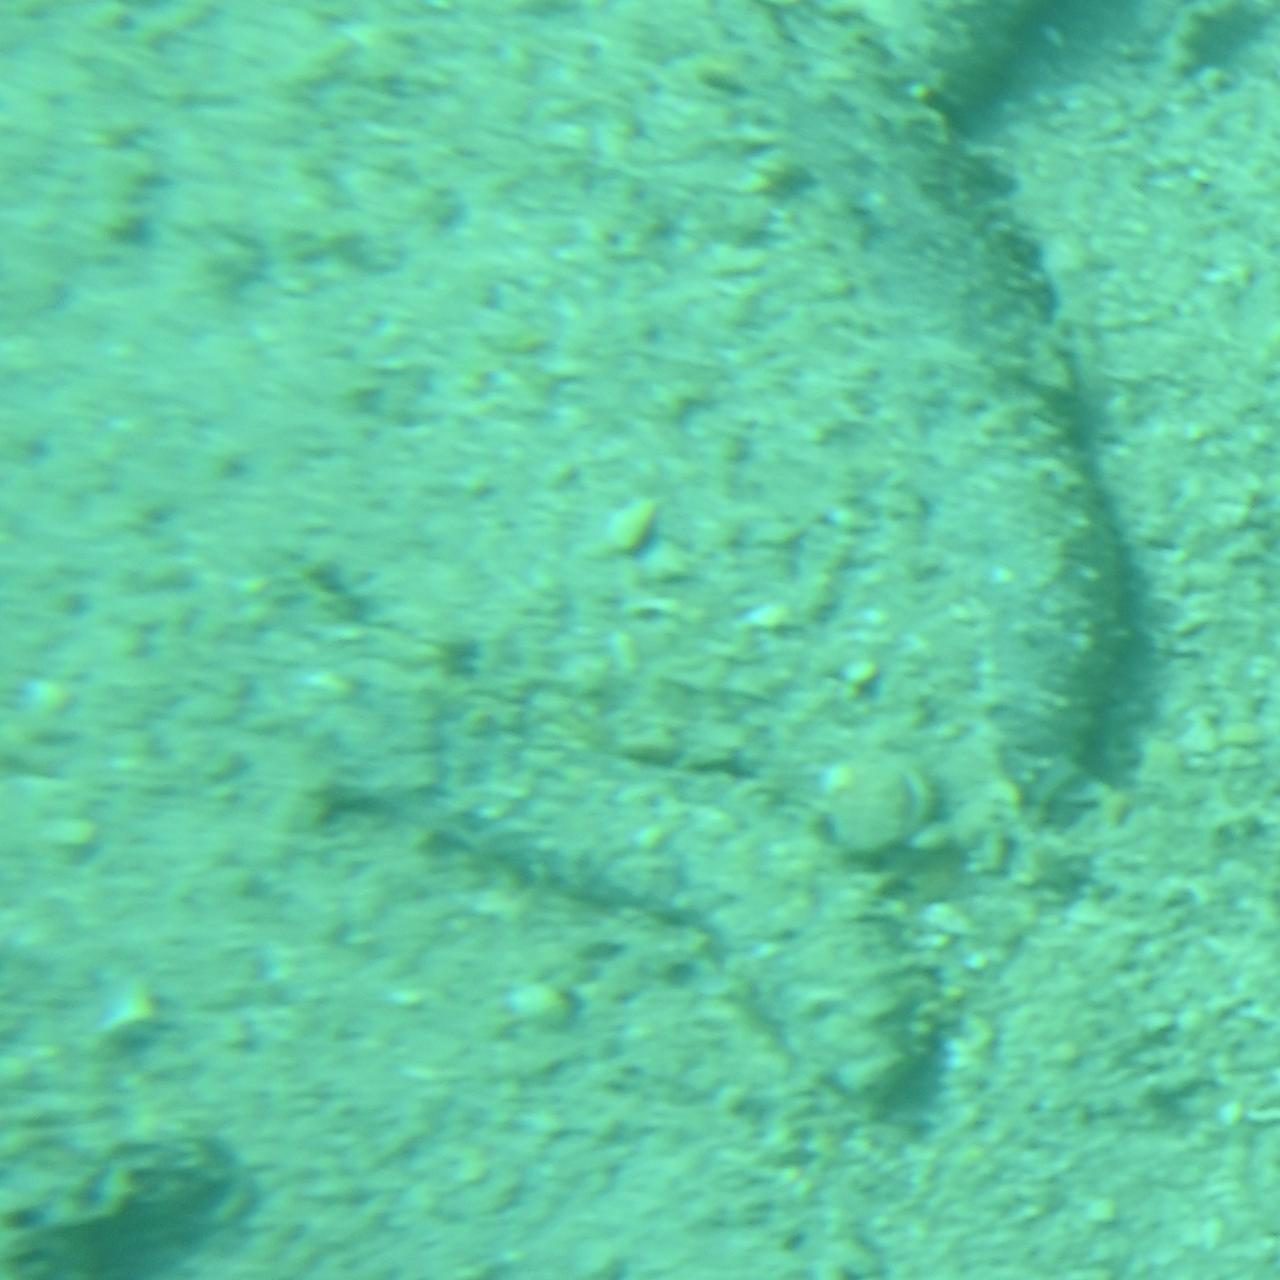Holothuria tubulosa: (710, 0, 1150, 846), (251, 626, 949, 1132), (772, 0, 1280, 318), (0, 911, 254, 1280)
